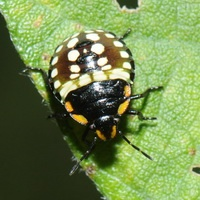insect: (23, 29, 162, 174)
